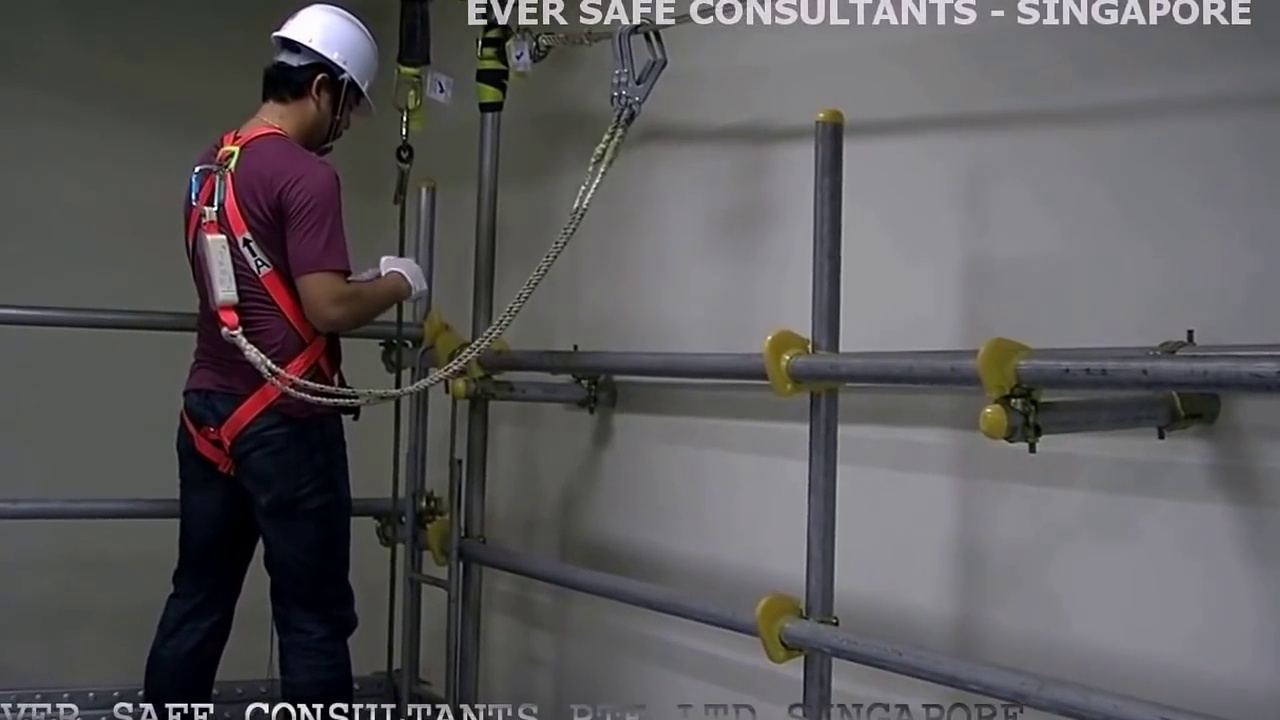harness: (179, 130, 298, 466)
helmet: (263, 1, 376, 87)
hook: (611, 24, 670, 106)
leash: (433, 125, 634, 399)
